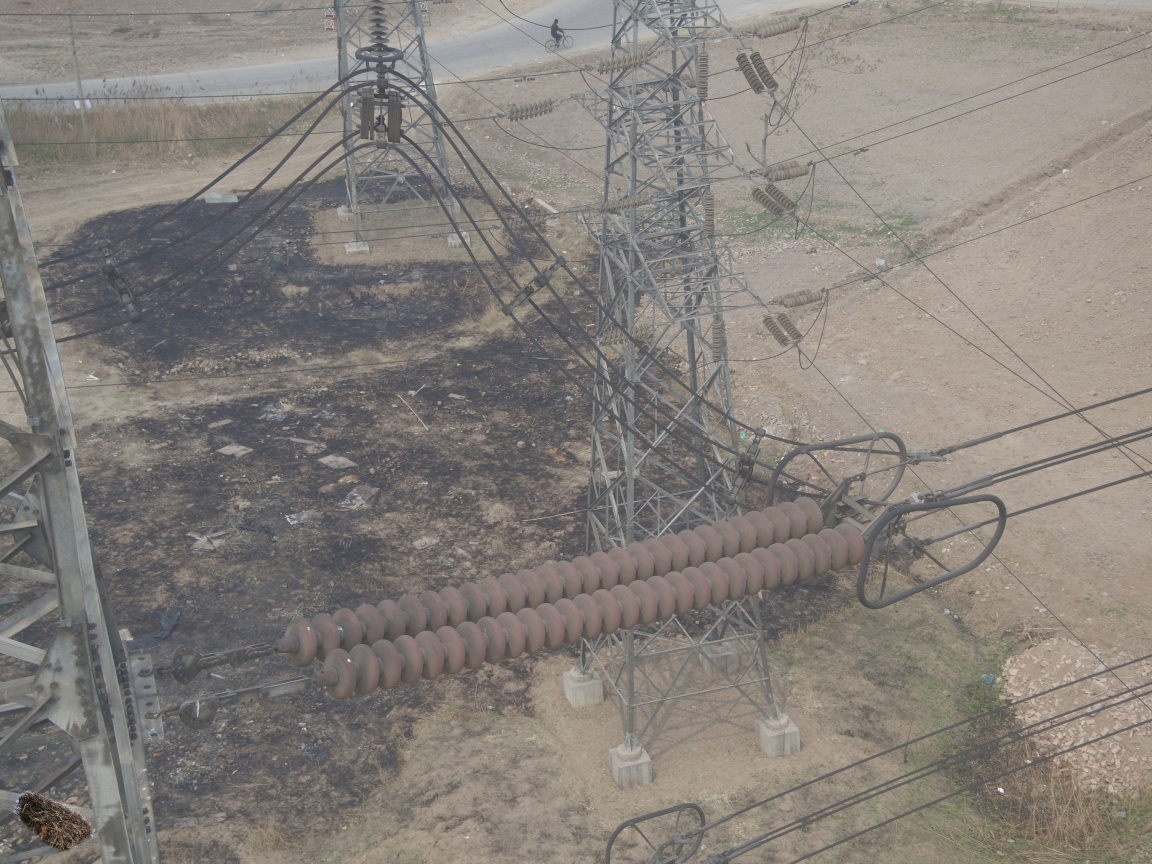nest: (11, 782, 97, 855)
